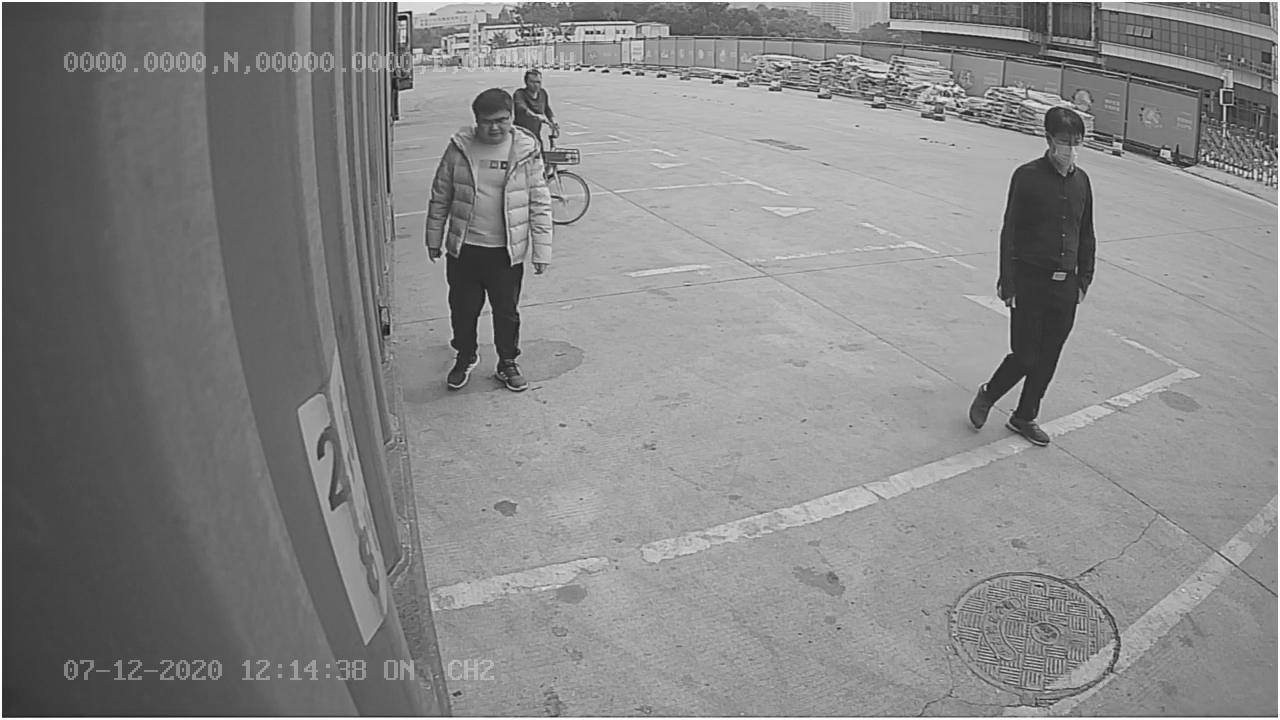person: (967, 103, 1098, 446)
